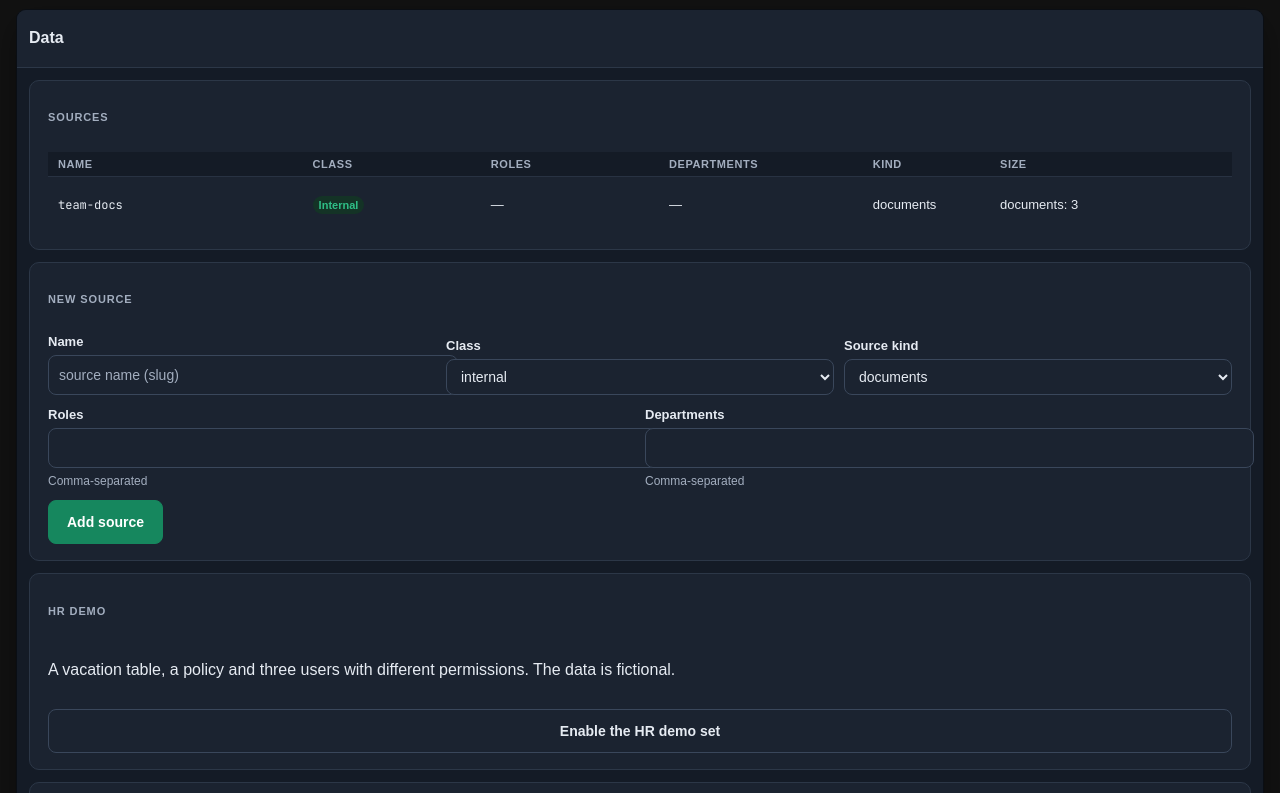
Data › shows the rejection of enabling it again
Click the button "Enable the HR demo set" at (640, 731), box [48,709,1232,753]
(page scrolled)
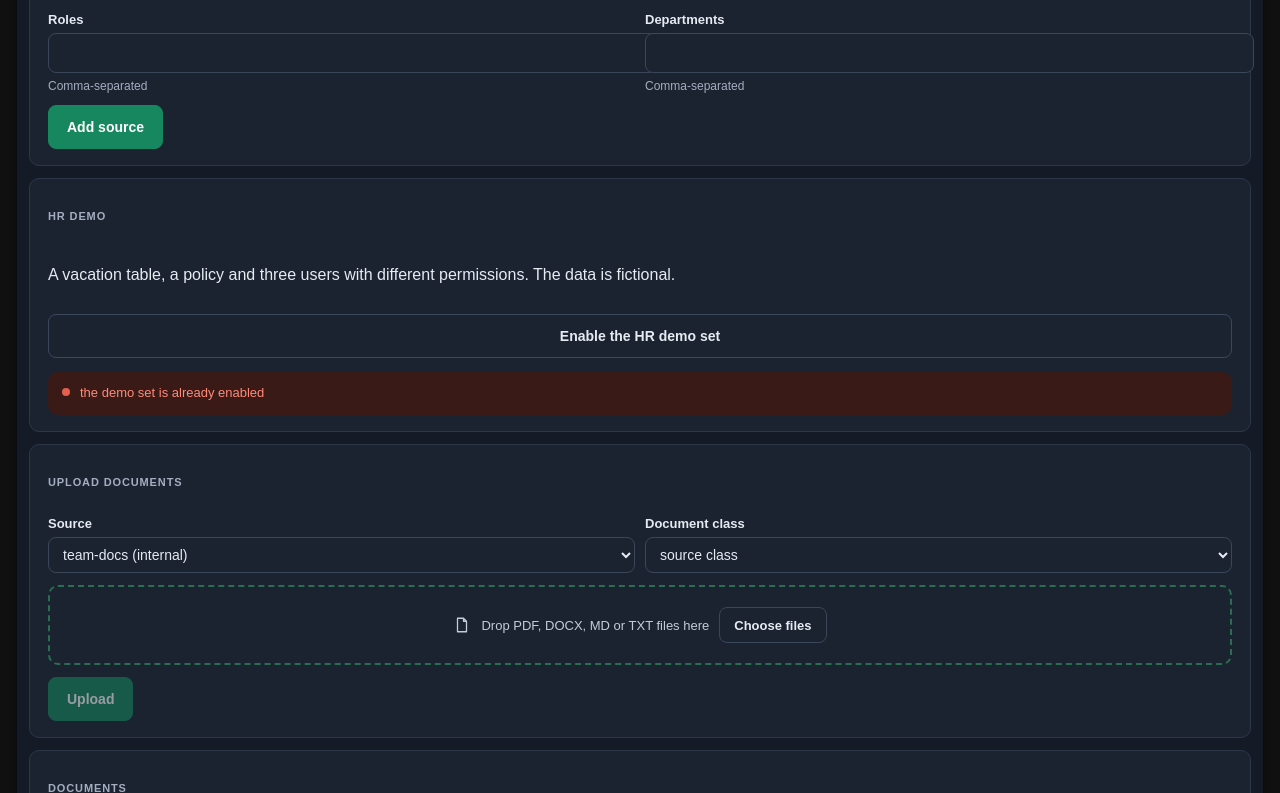
Check: the message reads "the demo set is already enabled", box [80,385,264,400]
